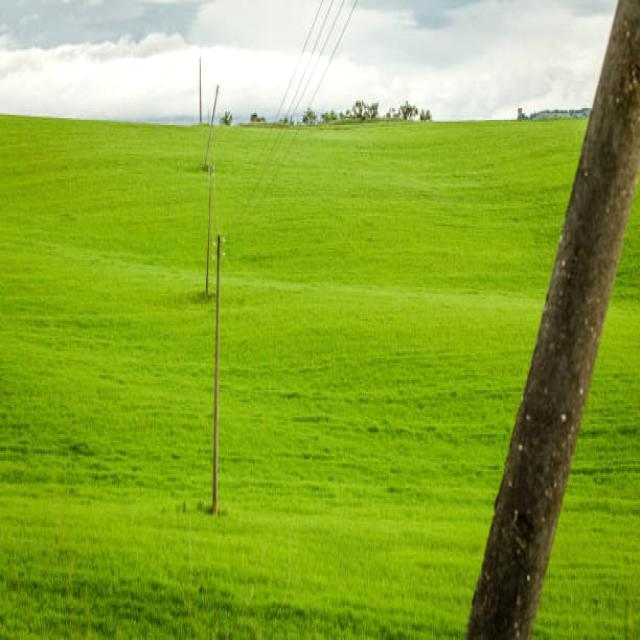Broken Pole: (456, 0, 640, 639), (201, 81, 220, 170)
